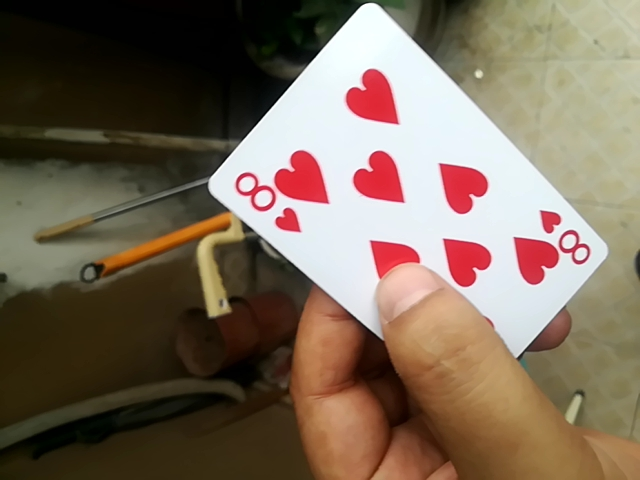hx 8: (200, 9, 610, 370)
